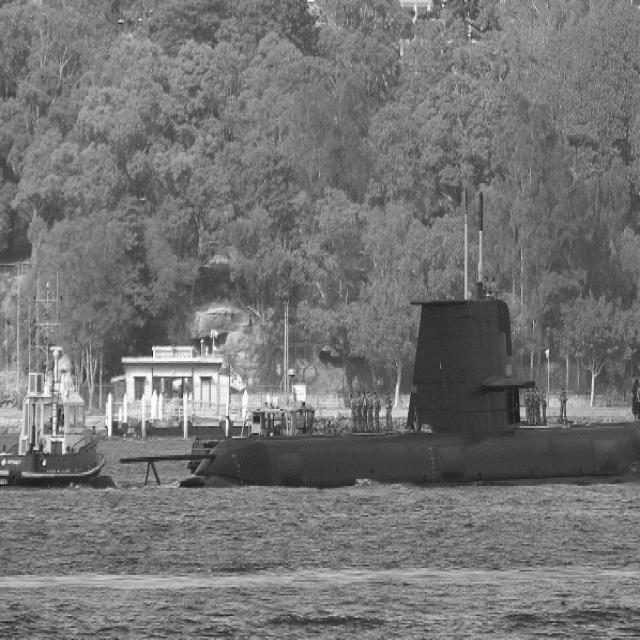submarine: (124, 292, 640, 478)
